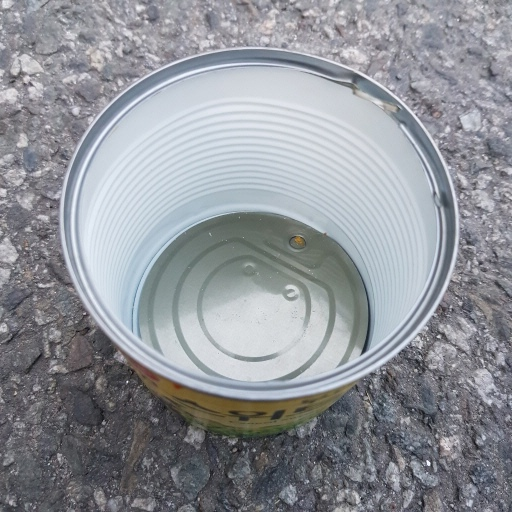Metal_1: (62, 46, 460, 441)
